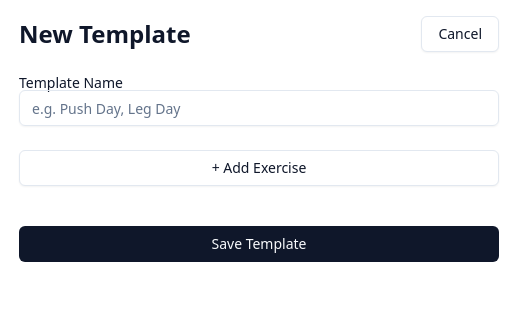
TemplateBuilder › shows validation error when saving without exercises
This screenshot has width=519, height=318.
Type "Test Template" into the field labelled "Template Name" at point(259, 108), box [19,90,499,126]
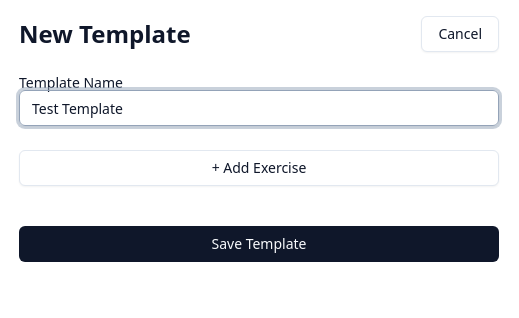
Click the button "Save Template" at point(259, 244), box [19,226,499,262]
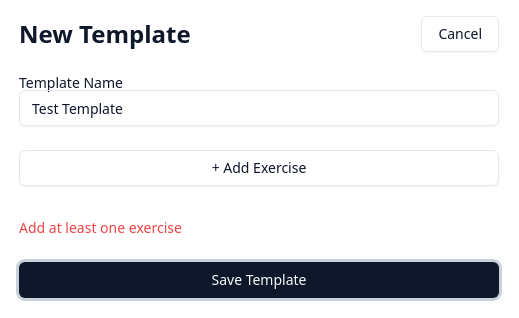
Now the text "Add at least one exercise" is shown, box [19,218,182,237]
